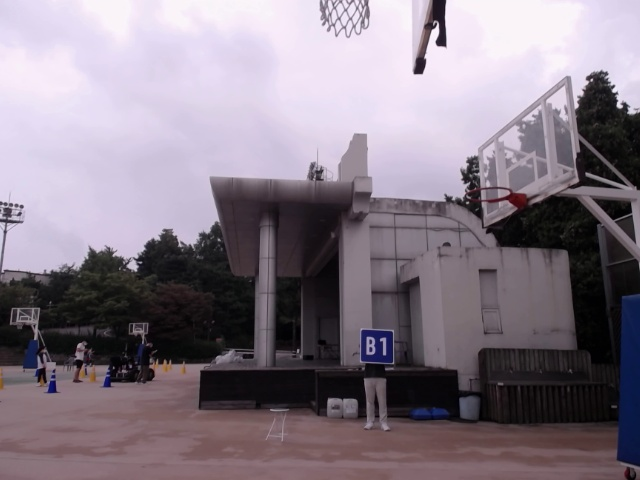delivery_b1: (360, 328, 395, 364)
